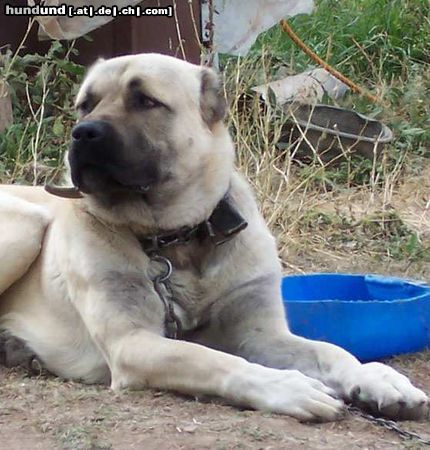kangal: (0, 51, 430, 423)
